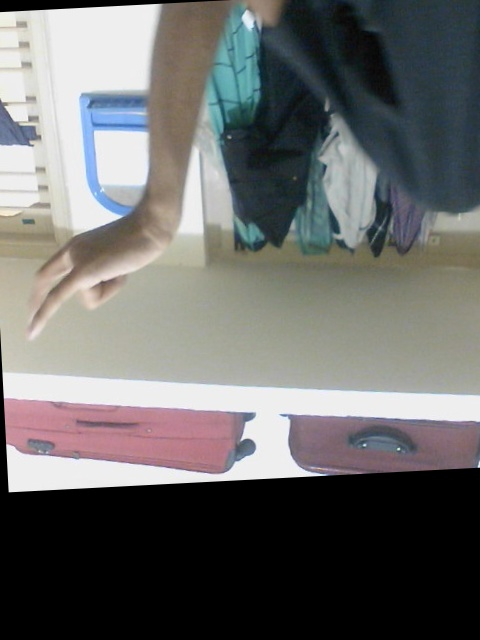hand: (23, 199, 179, 343)
